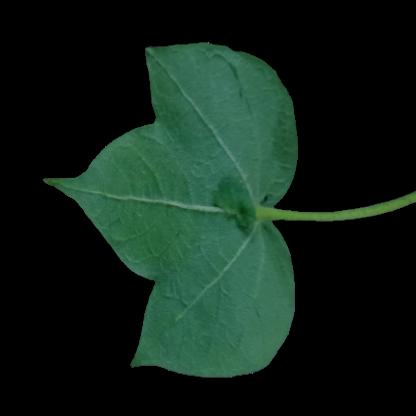curl_stage2: (153, 256, 287, 364), (156, 69, 268, 159), (104, 162, 205, 242)
leaf_enation: (208, 169, 272, 247)
